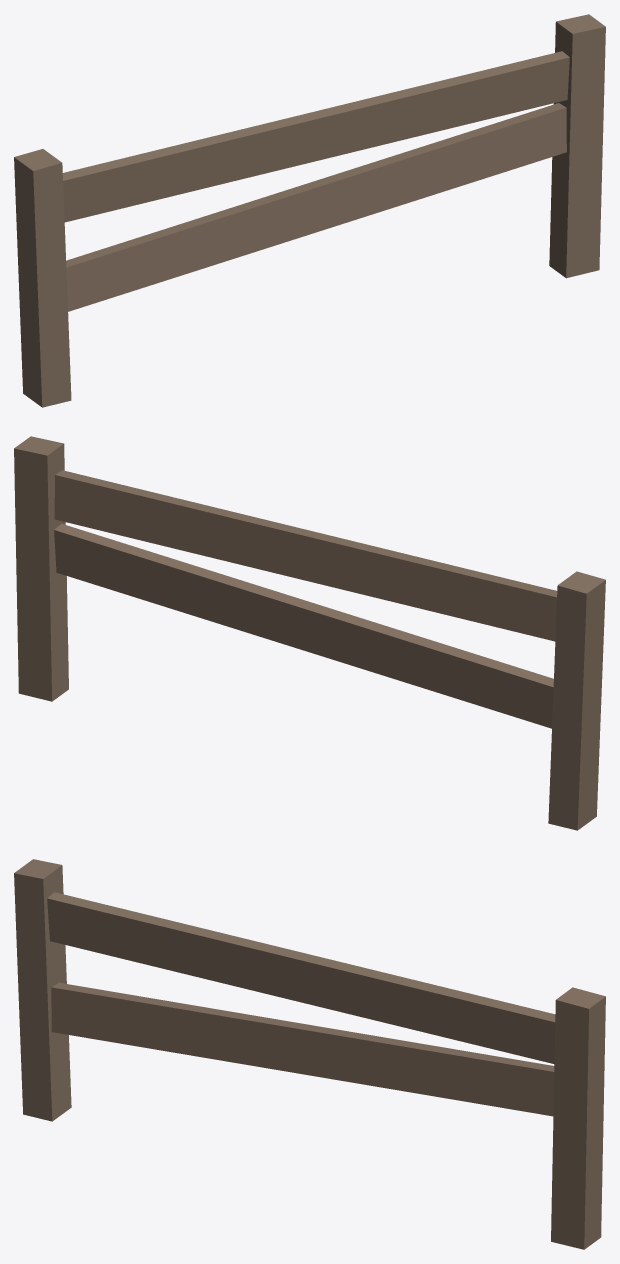
The model's file is fence.glb.
3 views of the same model, one above another, from view 1: azimuth 30°, elevation 25°; view 2: azimuth 150°, elevation 25°; view 3: azimuth 330°, elevation 25° (orthographic).
Visible parts, largest first — view 1: Prop_WoodenFence_Single; view 2: Prop_WoodenFence_Single; view 3: Prop_WoodenFence_Single.
Boxes of the visible parts, x1,y1,x2,y2 form: Prop_WoodenFence_Single: (14,14,605,407); Prop_WoodenFence_Single: (14,436,605,830); Prop_WoodenFence_Single: (14,859,605,1249).
Size of the model in its own units: 2.06 by 0.8381 by 0.1198.
